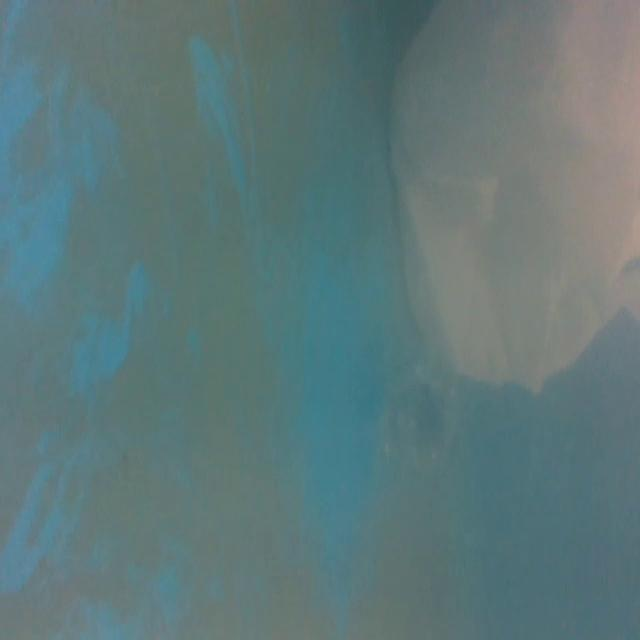plastic bags: (386, 0, 639, 392)
